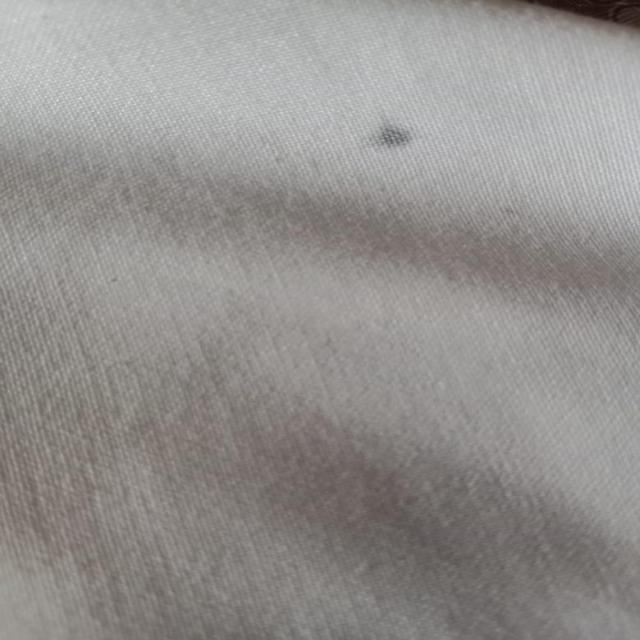stain: (354, 103, 433, 167)
